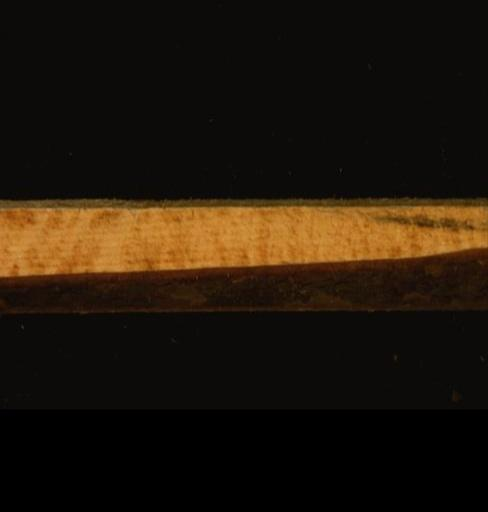wave: (0, 245, 486, 310)
